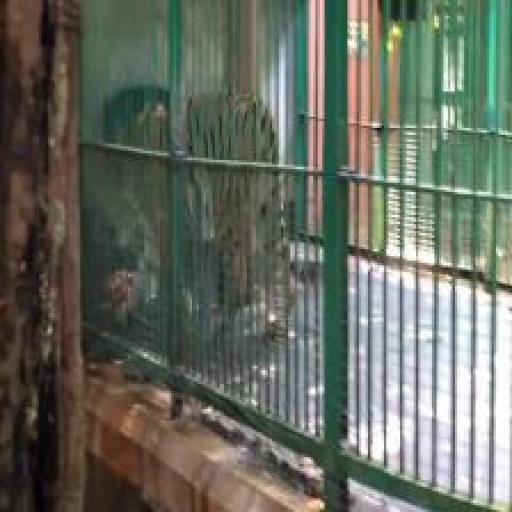Tiger: (82, 64, 303, 373)
